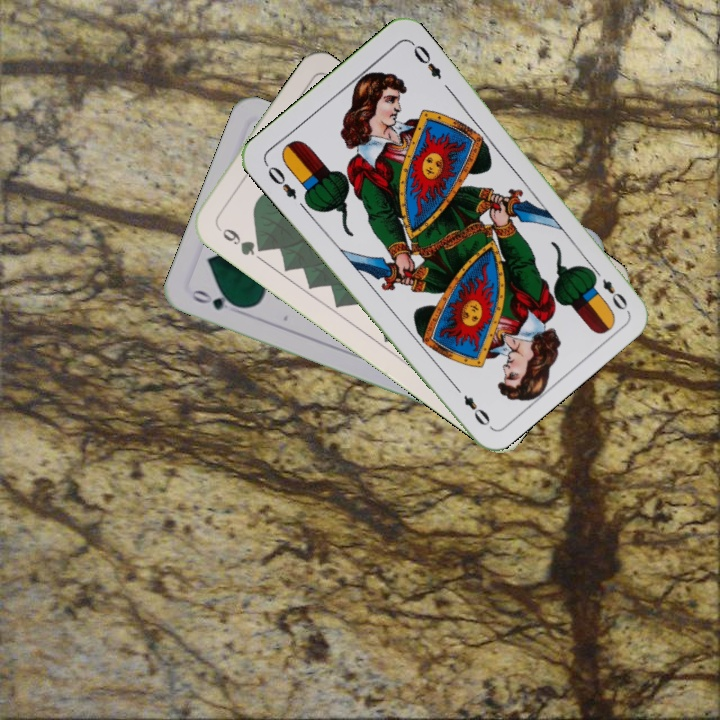EO: (587, 263, 630, 313), (263, 162, 300, 202)
G9: (212, 221, 268, 258)
GO: (188, 285, 245, 317)
